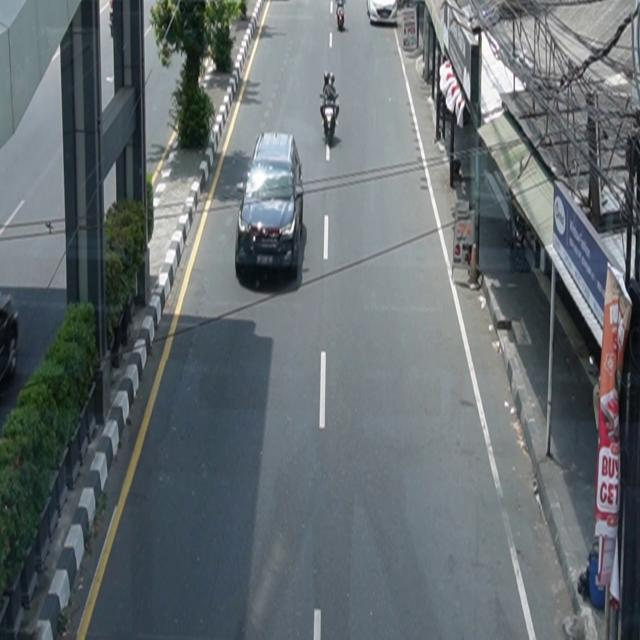car: (236, 131, 305, 280), (1, 293, 20, 385), (367, 1, 398, 26)
